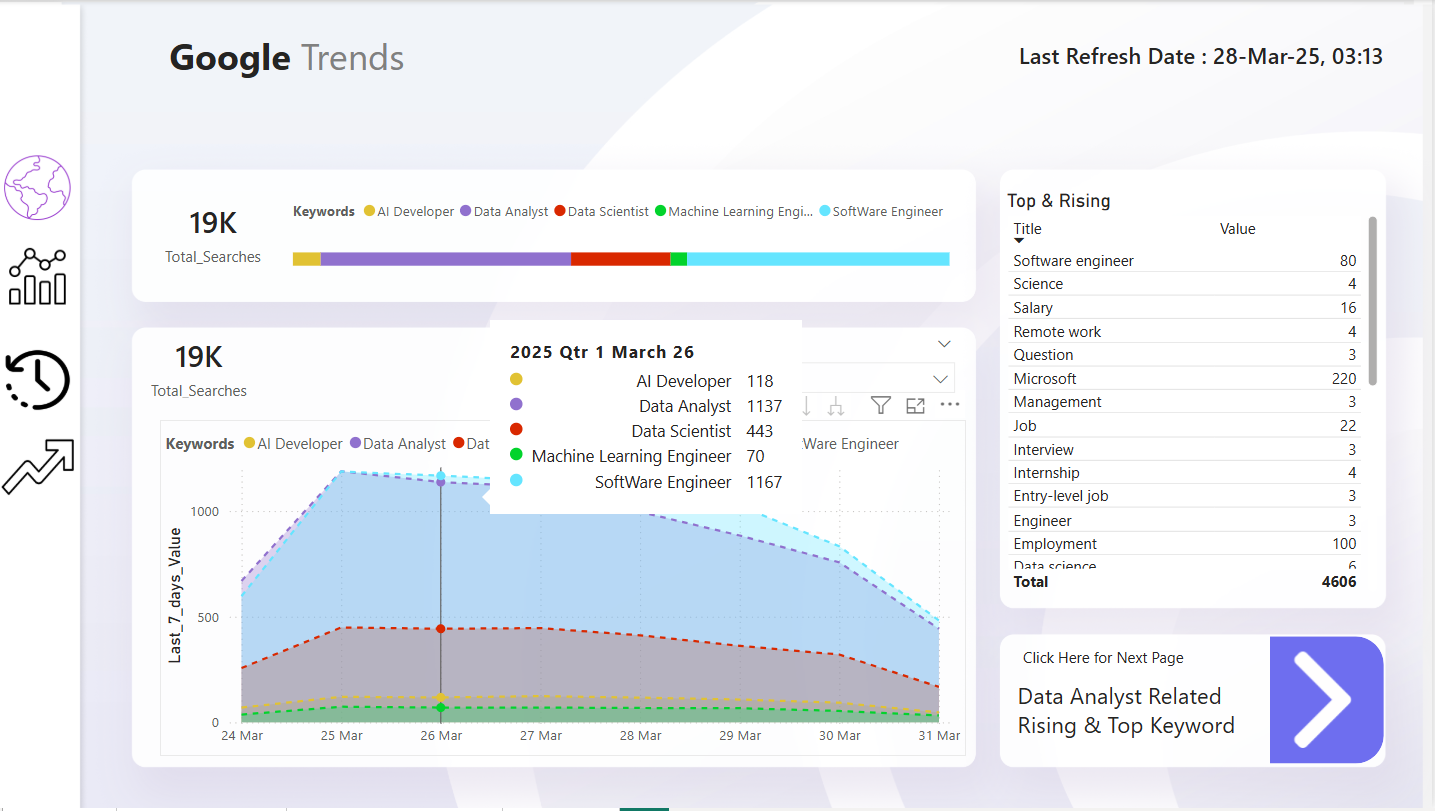

What the dashboard file says about the page in this screenshot:
{"tool":"powerbi","page":{"name":"Real Time","canvas":[1280,720],"ordinal":3},"visuals":[{"type":"areaChart","fields":{"Y":["Past_7_days_search.Last_7_days_Value"],"Series":["Past_7_days_search.Keywords"],"Category":["Past_7_days_search.Date.Variation.Date Hierarchy.Year","Past_7_days_search.Date.Variation.Date Hierarchy.Quarter","Past_7_days_search.Date.Variation.Date Hierarchy.Month","Past_7_days_search.Date.Variation.Date Hierarchy.Day"]},"box":[147.2,374,717.8,299.2],"z":0},{"type":"slicer","fields":{"Values":["Past_7_days_search.Keywords"]},"box":[639.4,294.4,225.6,65.1],"z":1000},{"type":"card","fields":{"Values":["Past_7_days_search.Last_7_days_Value"]},"box":[127.9,294.4,107.4,65.1],"z":2000},{"type":"card","fields":{"Values":["Past_7_days_search.Last_7_days_Value"]},"box":[127.9,167.7,132.7,78.4],"z":3000},{"type":"hundredPercentStackedBarChart","fields":{"Y":["Past_7_days_search.Last_7_days_Value"],"Series":["Past_7_days_search.Keywords"]},"box":[260.6,167.7,594.8,90.5],"z":4000},{"type":"textbox","box":[910.9,570.6,206.3,32.6],"z":5000},{"type":"actionButton","box":[1135.3,567,101.3,113.4],"z":6000},{"type":"shape","box":[910.9,589.9,224.4,83.2],"z":7000},{"type":"tableEx","title":"Top & Rising","fields":{"Values":["Top_Rising.Title","Sum(Top_Rising.Value)"]},"box":[896.4,167.7,340.2,364.3],"z":8000},{"type":"textbox","box":[150,23.3,248.8,55.8],"z":9000},{"type":"card","fields":{"Values":["Min(Refreash_Date.Refresh_Date)"]},"box":[898.8,32.6,352.3,37.4],"z":10000},{"type":"image","box":[0,302.8,76,71.2],"z":11000},{"type":"image","box":[7.2,216,60.3,60.3],"z":12000},{"type":"image","box":[3.6,133.9,68.8,67.6],"z":13000},{"type":"image","box":[0,374,76,84.5],"z":14000}]}

Visuals, with their boxes in screenshot pixels (x1, y1, x2, y2), scaled from the page's 1280x720 canvas onto the 1435x811 screenshot:
areaChart - Past_7_days_search.Last_7_days_Value x Past_7_days_search.Keywords: (165,421,970,758)
slicer - Past_7_days_search.Keywords: (717,332,970,405)
card - Past_7_days_search.Last_7_days_Value: (143,332,264,405)
card - Past_7_days_search.Last_7_days_Value: (143,189,292,277)
hundredPercentStackedBarChart - Past_7_days_search.Last_7_days_Value x Past_7_days_search.Keywords: (292,189,959,291)
textbox: (1021,643,1252,679)
actionButton: (1273,639,1386,766)
shape: (1021,664,1273,758)
"Top & Rising" tableEx: (1005,189,1386,599)
textbox: (168,26,447,89)
card - Min(Refreash_Date.Refresh_Date): (1008,37,1403,79)
image: (0,341,85,421)
image: (8,243,76,311)
image: (4,151,81,227)
image: (0,421,85,516)
